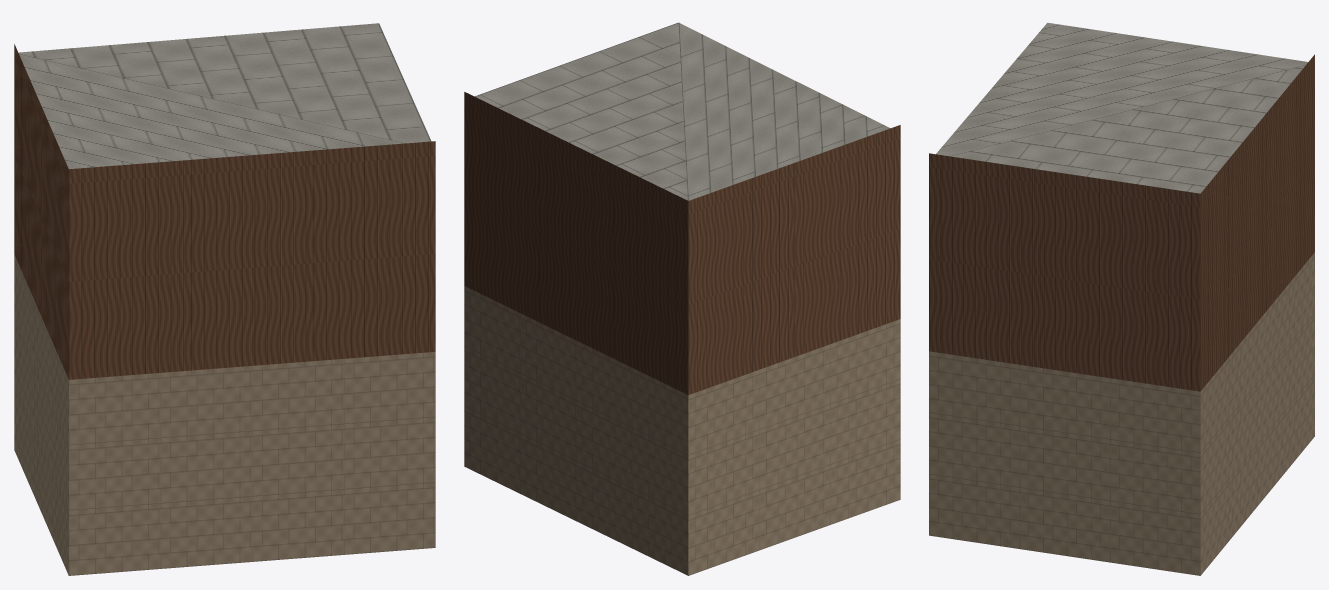
File: bld_c-2_-22_736.gltf
3 renders of one model, left to right at view 1: azimuth 30°, elevation 25°; view 2: azimuth 150°, elevation 25°; view 3: azimuth 270°, elevation 25°, orthographic. The views are drawn at different scales.
Parts seen in each view (by area): view 1: bld_c-2_-22_736; view 2: bld_c-2_-22_736; view 3: bld_c-2_-22_736.
Boxes of the visible parts, x1,y1,x2,y2 form: bld_c-2_-22_736: [14, 23, 435, 575]; bld_c-2_-22_736: [464, 22, 900, 575]; bld_c-2_-22_736: [929, 22, 1314, 575].
Size of the model in its own units: 10.66 by 10.58 by 9.67.
4 materials, 4 textured.
